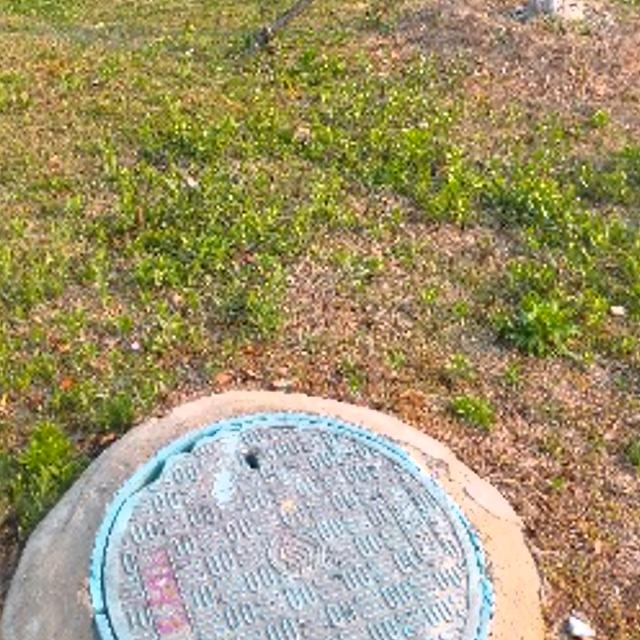good: (82, 407, 489, 640)
